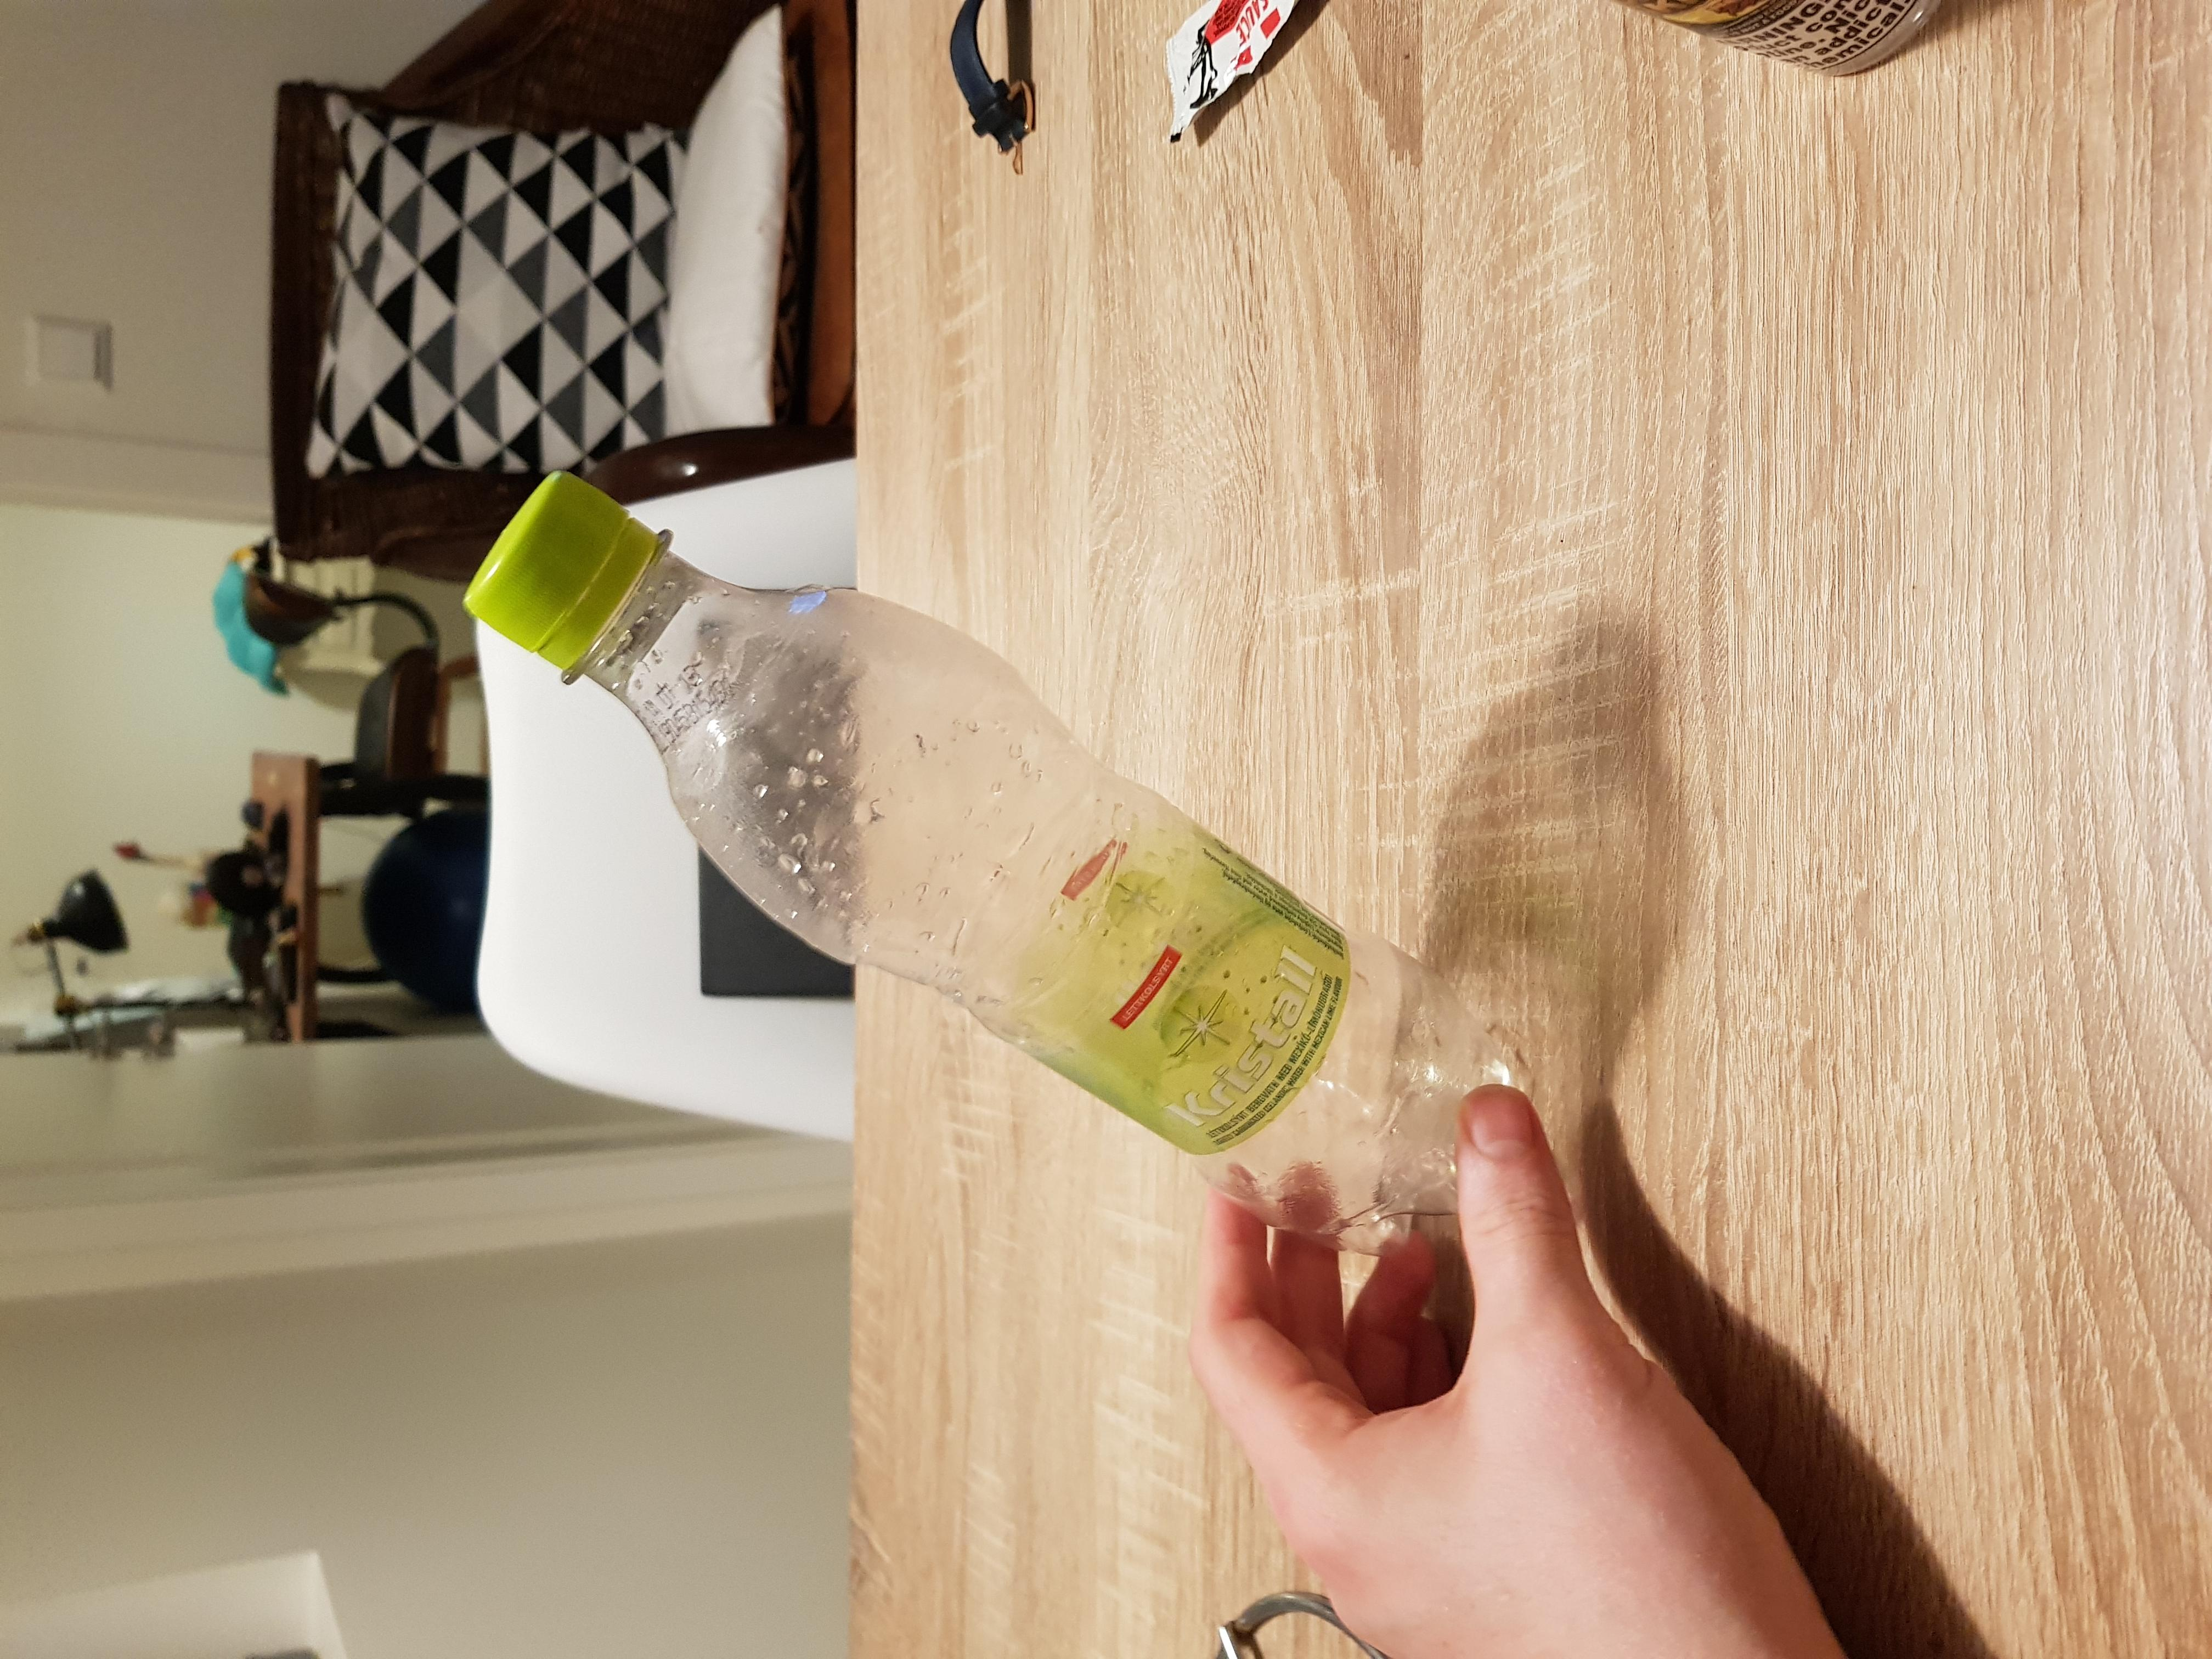Bottle: (458, 457, 1529, 1253)
